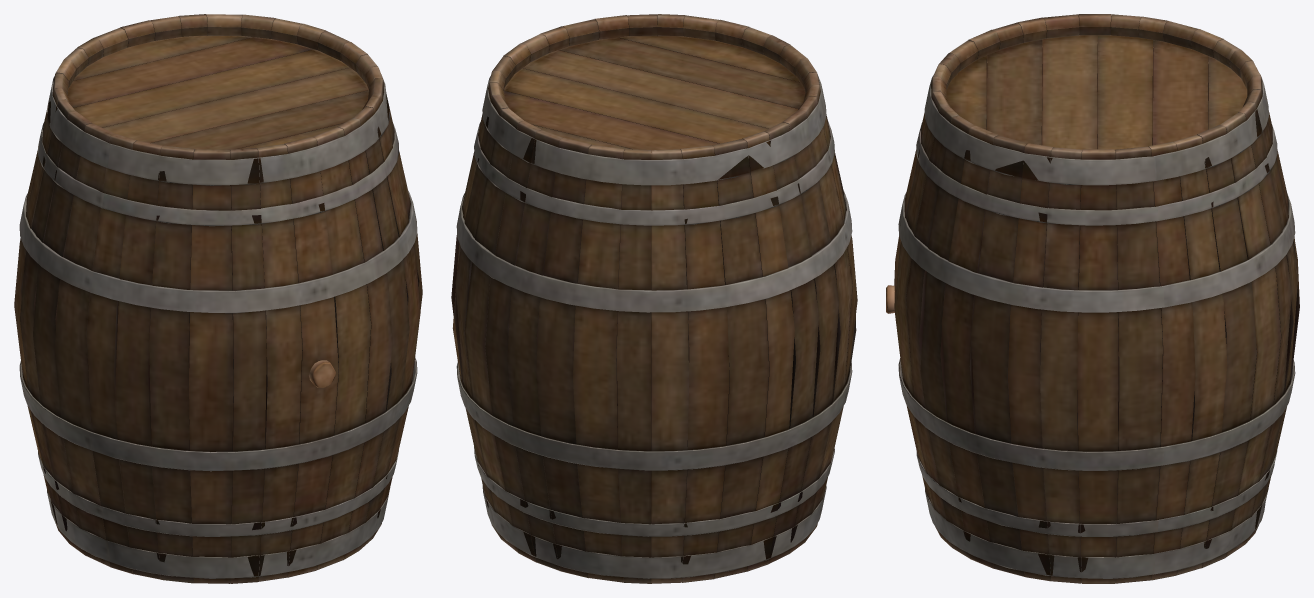
The model's file is ph2_wine_barrel_01.glb.
The picture shows the model from 3 angles, left to right: view 1: azimuth 30°, elevation 25°; view 2: azimuth 150°, elevation 25°; view 3: azimuth 270°, elevation 25°; orthographic projection.
Size of the model in its own units: 0.7419 by 0.8713 by 0.756.
1 material, 1 textured.
